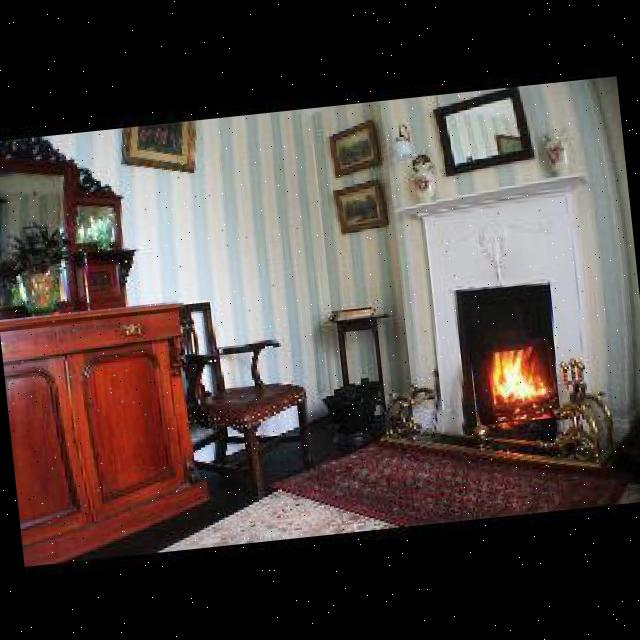fire: (468, 336, 560, 425)
